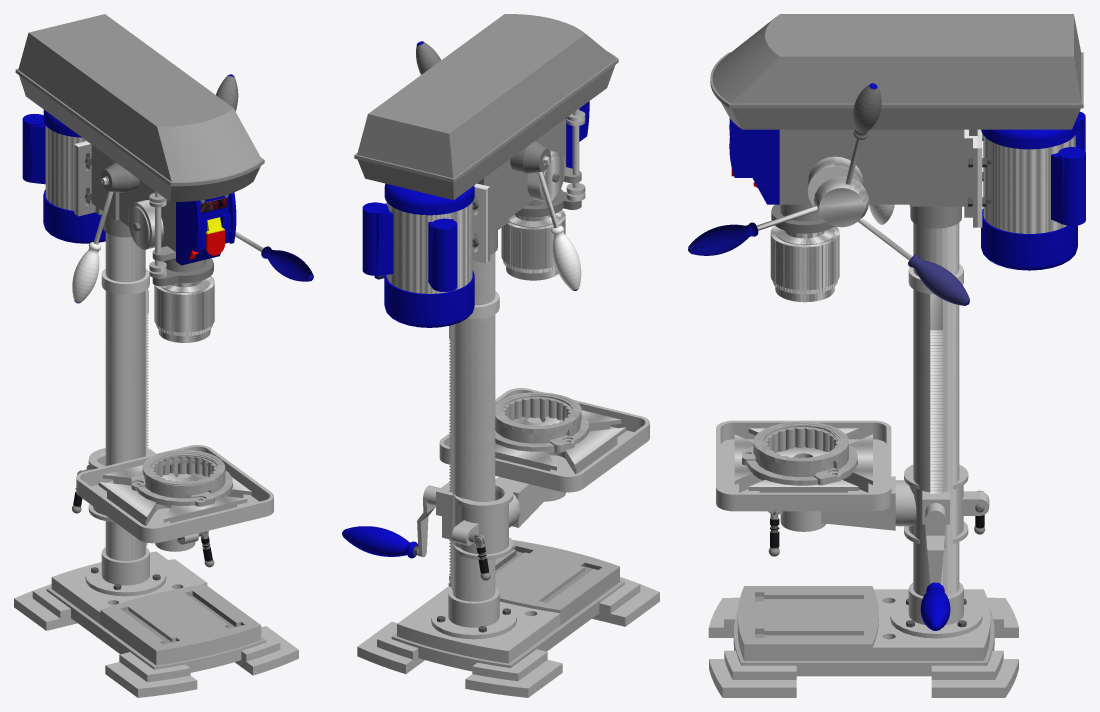
3 views of the same model, side by side, from view 1: azimuth 30°, elevation 25°; view 2: azimuth 150°, elevation 25°; view 3: azimuth 270°, elevation 25° (orthographic). The views are drawn at different scales.
Parts seen in each view (by area): view 1: 01, 04, 03, 1.001, 02.001, 2.001, 1; view 2: 01, 04, 03, 1.001, 2.001, 02.001; view 3: 01, 04, 02.001, 03, 1.001, 2.001.
Part boxes in pixels (<box>): 01: <box>14,14,298,697</box>; 04: <box>72,445,273,567</box>; 03: <box>154,276,214,342</box>; 1.001: <box>131,450,232,506</box>; 02.001: <box>216,74,313,281</box>; 2.001: <box>147,452,220,495</box>; 1: <box>150,453,219,494</box>; 01: <box>354,14,659,697</box>; 04: <box>342,388,649,580</box>; 03: <box>501,210,565,280</box>; 1.001: <box>495,392,588,452</box>; 2.001: <box>497,394,576,436</box>; 02.001: <box>374,41,440,279</box>; 01: <box>708,14,1085,697</box>; 04: <box>716,420,989,630</box>; 02.001: <box>688,83,969,305</box>; 03: <box>770,226,839,302</box>; 1.001: <box>742,421,857,485</box>; 2.001: <box>759,424,844,459</box>.
Size of the model in its own units: 485 by 1225 by 714.
38 materials, 11 textured.
